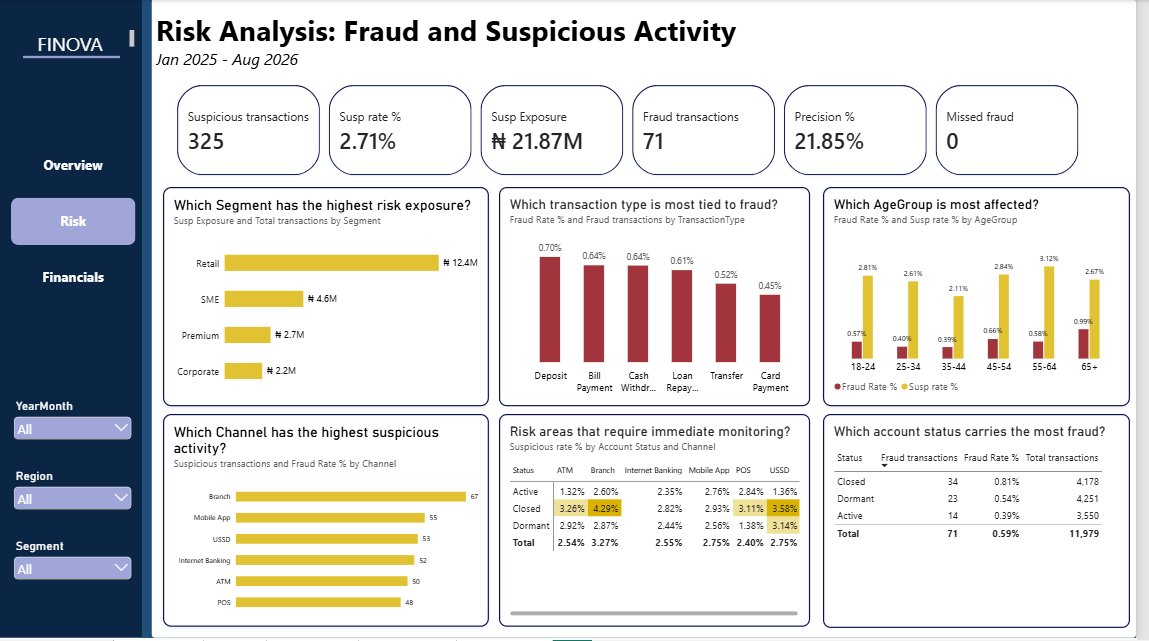

The dashboard page shown, as its layout file describes it:
{"tool":"powerbi","page":{"name":"Risk ","canvas":[1920,1080],"ordinal":1},"visuals":[{"type":"cardVisual","fields":{"Data":["Measuress.Suspicious transactions","Measuress.Susp rate %","Measuress.Susp Exposure","Measuress.Fraud transactions","Measuress.Precision %","Measuress.Missed fraud"]},"box":[297,140.1,1528.8,159.6],"z":0},{"type":"clusteredBarChart","title":"Which Segment has the highest risk exposure?","fields":{"Category":["Dim_CustomerSegment.Segment"],"Y":["Measuress.Susp Exposure"]},"box":[276.8,315.6,550.1,369.6],"z":1000},{"type":"clusteredBarChart","title":"Which Channel has the highest suspicious activity?","fields":{"Category":["Dim_Channel.Channel"],"Y":["Measuress.Suspicious transactions"]},"box":[276.8,698.6,550.1,359.4],"z":2000},{"type":"clusteredColumnChart","title":"Which transaction type is most tied to fraud?","fields":{"Category":["Dim_TransactionType.TransactionType"],"Y":["Measuress.Fraud Rate %"]},"box":[843.8,315.6,524.8,369.6],"z":3000},{"type":"pivotTable","title":"Risk areas that require immediate monitoring?","fields":{"Columns":["Dim_Channel.Channel"],"Rows":["Dim_Account.Status"],"Values":["Measuress.Susp rate %"]},"box":[843.8,698.6,524.8,359.4],"z":5000},{"type":"pageNavigator","box":[20.2,239.6,210,270],"z":6000},{"type":"tableEx","title":"Which account status carries the most fraud?","fields":{"Values":["Dim_Account.Status","Measuress.Fraud transactions","Measuress.Fraud Rate %","Measuress.Total transactions"]},"box":[1390.5,698.6,518.1,361.1],"z":7000},{"type":"textbox","box":[264.9,16.9,1434.4,104.6],"z":8000},{"type":"slicer","fields":{"Values":["Dim_Date.YearMonth"]},"box":[20.2,673.3,207.6,86.1],"z":9000},{"type":"slicer","fields":{"Values":["Dim_Region.Region"]},"box":[20.2,791.4,207.6,86.1],"z":10000},{"type":"slicer","fields":{"Values":["Dim_CustomerSegment.Segment"]},"box":[20.2,909.6,207.6,86.1],"z":11000},{"type":"textbox","box":[20.2,50.6,207.6,42.2],"z":12000},{"type":"shape","box":[40.5,70.9,163.7,50.6],"z":13000},{"type":"clusteredColumnChart","title":"Which AgeGroup is most affected?","fields":{"Category":["Dim_Customers.AgeGroup"],"Y":["Measuress.Fraud Rate %","Measuress.Susp rate %"]},"box":[1390.5,315.6,518.1,369.6],"z":13001}]}

Visuals, with their boxes on the page's 1920x1080 design canvas (x1, y1, x2, y2). These are canvas units, not pixel positions in the 1149x641 screenshot, which may show the page scaled, cropped or inside an application window:
cardVisual - Measuress.Suspicious transactions x Measuress.Susp rate %: <region>297, 140, 1826, 300</region>
"Which Segment has the highest risk exposure?" clusteredBarChart: <region>277, 316, 827, 685</region>
"Which Channel has the highest suspicious activity?" clusteredBarChart: <region>277, 699, 827, 1058</region>
"Which transaction type is most tied to fraud?" clusteredColumnChart: <region>844, 316, 1369, 685</region>
"Risk areas that require immediate monitoring?" pivotTable: <region>844, 699, 1369, 1058</region>
pageNavigator: <region>20, 240, 230, 510</region>
"Which account status carries the most fraud?" tableEx: <region>1390, 699, 1909, 1060</region>
textbox: <region>265, 17, 1699, 122</region>
slicer - Dim_Date.YearMonth: <region>20, 673, 228, 759</region>
slicer - Dim_Region.Region: <region>20, 791, 228, 878</region>
slicer - Dim_CustomerSegment.Segment: <region>20, 910, 228, 996</region>
textbox: <region>20, 51, 228, 93</region>
shape: <region>40, 71, 204, 122</region>
"Which AgeGroup is most affected?" clusteredColumnChart: <region>1390, 316, 1909, 685</region>
